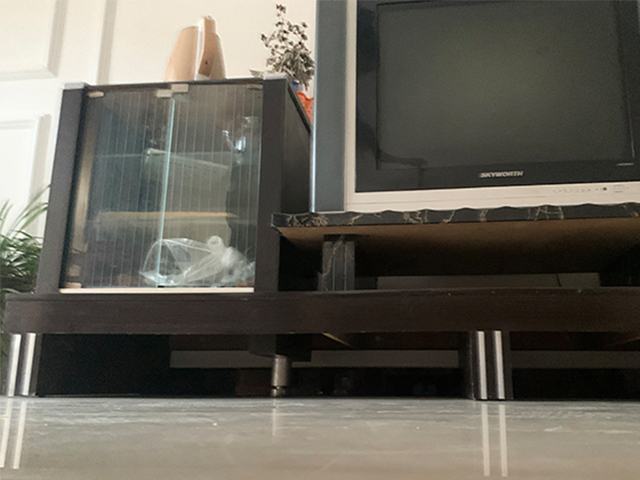cabinet: (2, 81, 640, 402)
